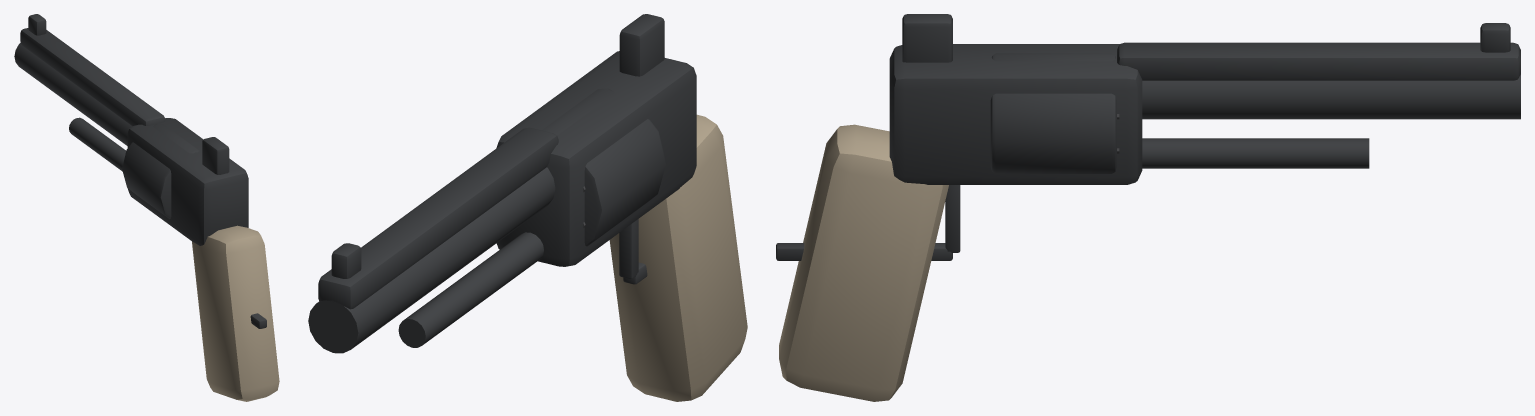
File: gun.glb
3 renders of one model, left to right at view 1: azimuth 30°, elevation 25°; view 2: azimuth 150°, elevation 25°; view 3: azimuth 270°, elevation 25°, orthographic. The views are drawn at different scales.
Parts seen in each view (by area): view 1: revolver; view 2: revolver; view 3: revolver.
Part boxes in pixels (x1,y1,x2,y2): revolver: (14, 14, 279, 401); revolver: (308, 14, 747, 401); revolver: (776, 14, 1520, 401).
Size of the model in its own units: 0.052 by 0.1644 by 0.295.
